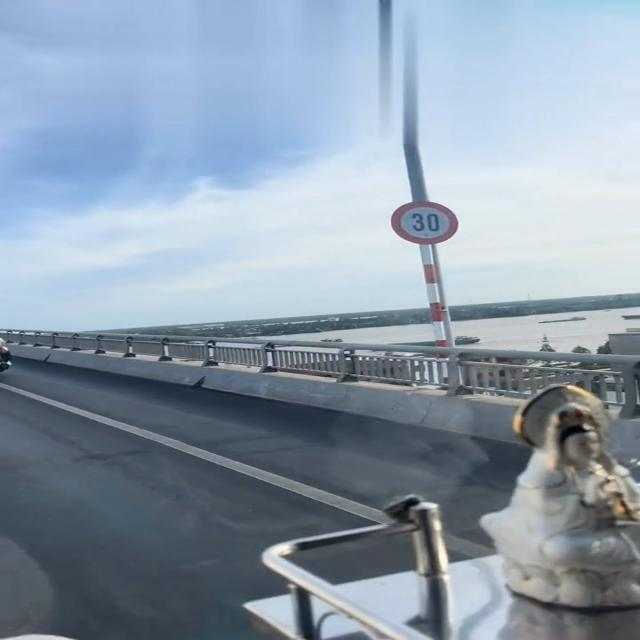127-toc-do-toi-da-30: (389, 201, 461, 243)
